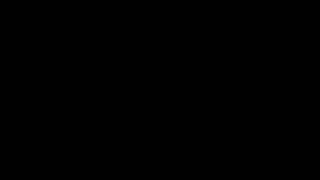turn_right: (188, 66, 200, 79)
